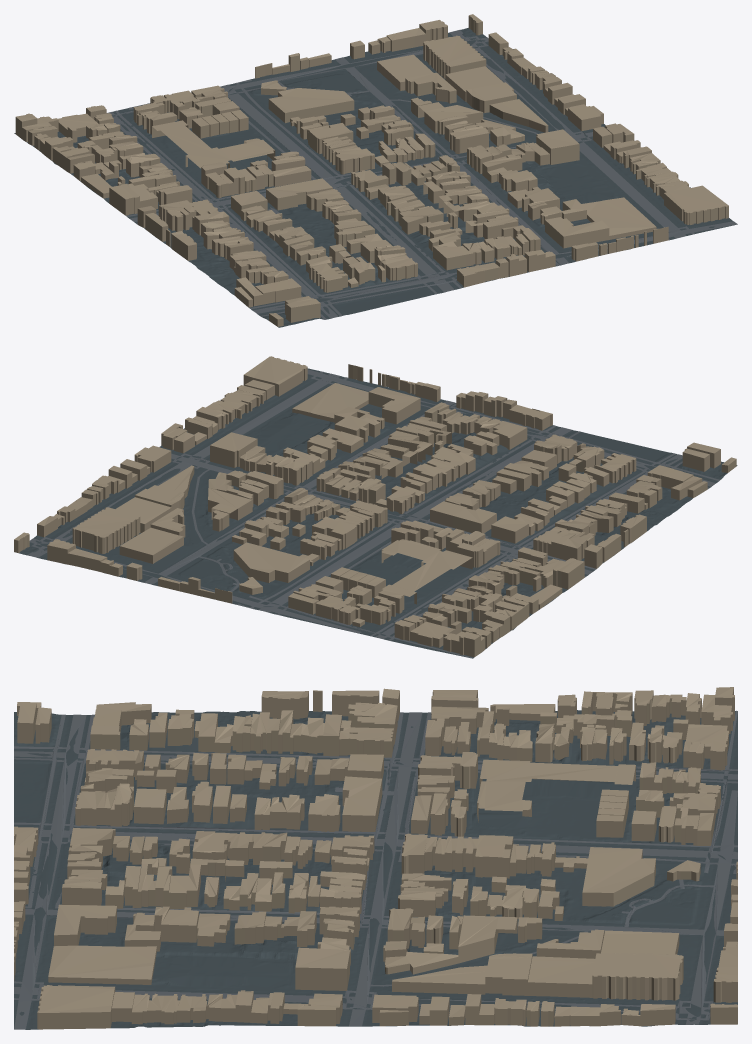
Rendered from epsg26910-1436-10882.lod0.glb.
The picture shows the model from 3 angles, top to bottom: view 1: azimuth 30°, elevation 25°; view 2: azimuth 150°, elevation 25°; view 3: azimuth 270°, elevation 25°; orthographic projection. The views are drawn at different scales.
Visible parts, largest first — view 1: epsg26910-1436-10882-lod0; view 2: epsg26910-1436-10882-lod0; view 3: epsg26910-1436-10882-lod0.
Boxes of the visible parts, x1=… form: epsg26910-1436-10882-lod0: x1=14, y1=14, x2=737, y2=327; epsg26910-1436-10882-lod0: x1=14, y1=356, x2=737, y2=658; epsg26910-1436-10882-lod0: x1=14, y1=687, x2=737, y2=1029.
Size of the model in its own units: 384 by 21.61 by 384.
